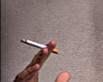Cigarette: (20, 39, 58, 54)
